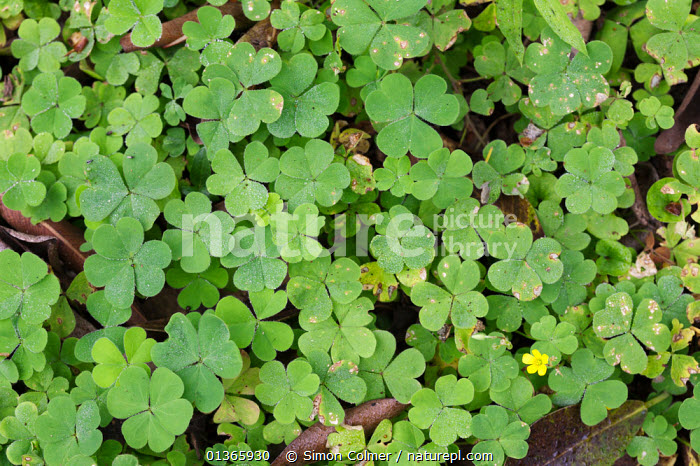oxalis: (13, 15, 685, 442)
